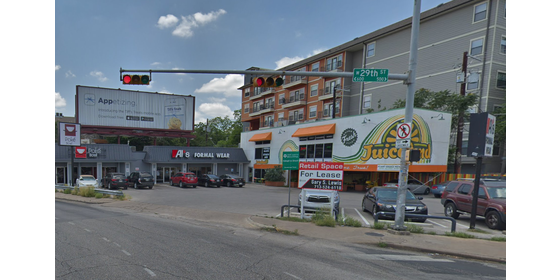no ped crossing symbol use arrow sign: (396, 122, 412, 149)
street name sign: (353, 66, 388, 83)
